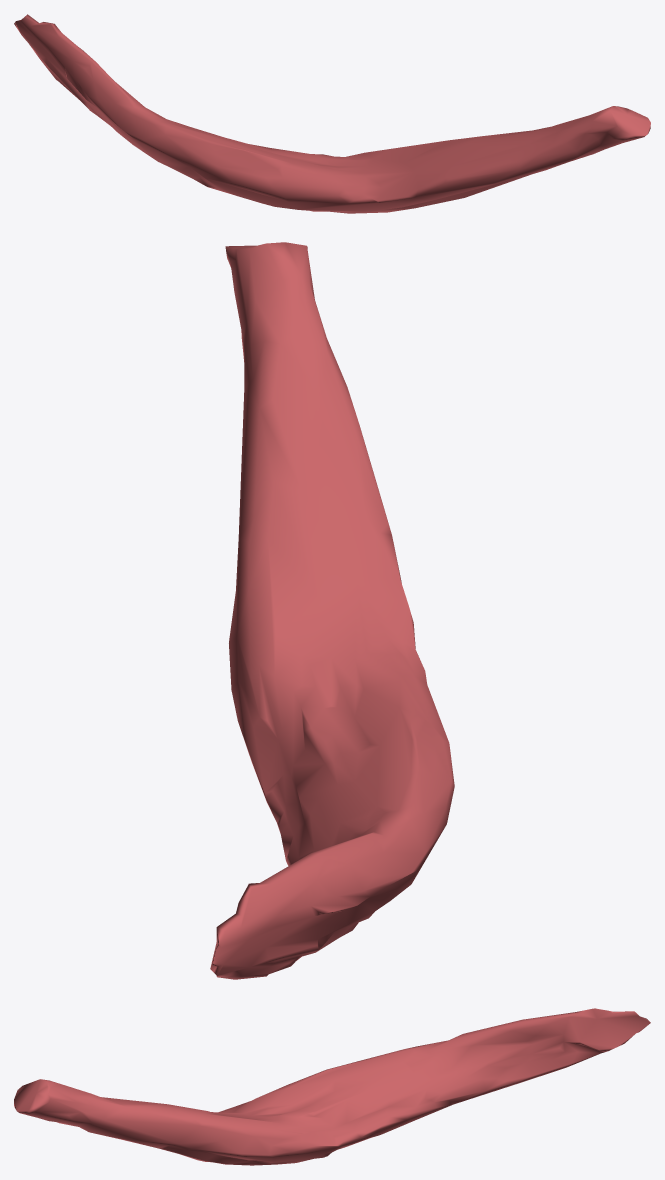
3 renders of one model, top to bottom at view 1: azimuth 30°, elevation 25°; view 2: azimuth 150°, elevation 25°; view 3: azimuth 270°, elevation 25°, orthographic. The views are drawn at different scales.
Parts seen in each view (by area): view 1: 右侧旋前圆肌尺头; view 2: 右侧旋前圆肌尺头; view 3: 右侧旋前圆肌尺头.
Boxes of the visible parts, left/top/right/bottom form: 右侧旋前圆肌尺头: left=14, top=14, right=650, bottom=213; 右侧旋前圆肌尺头: left=210, top=242, right=454, bottom=979; 右侧旋前圆肌尺头: left=14, top=1008, right=650, bottom=1165.
Bounding box in the file's own units: 0.0792 × 0.0375 × 0.1431.
